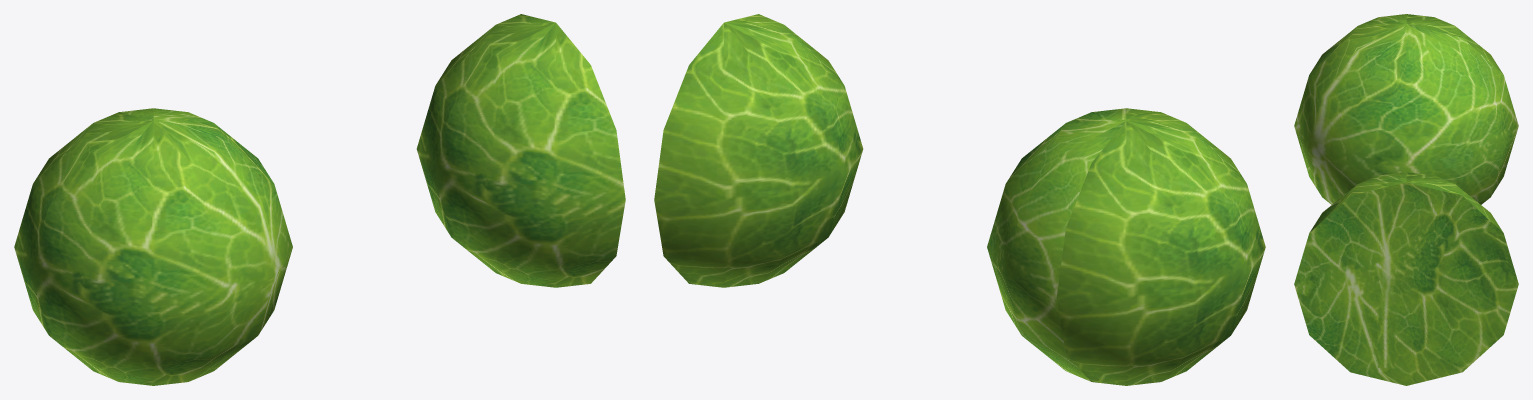
The model's file is Gabbage.FBX.
3 renders of one model, left to right at view 1: azimuth 30°, elevation 25°; view 2: azimuth 150°, elevation 25°; view 3: azimuth 270°, elevation 25°, orthographic. The views are drawn at different scales.
Visible parts, largest first — view 1: Sphere001, Sphere002; view 2: Sphere001, Sphere002; view 3: Sphere002, Sphere001.
Part boxes in pixels (box(x1,y1,x2,y2)): Sphere001: box(14, 108, 292, 385); Sphere002: box(416, 14, 625, 287); Sphere001: box(987, 108, 1265, 385); Sphere002: box(654, 14, 863, 287); Sphere002: box(1294, 172, 1518, 385); Sphere001: box(1294, 14, 1518, 204).
Size of the model in its own units: 0.066 by 0.0305 by 0.0305.
